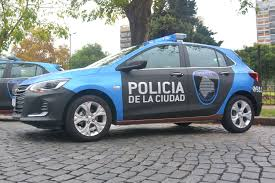special: (12, 34, 263, 141)
